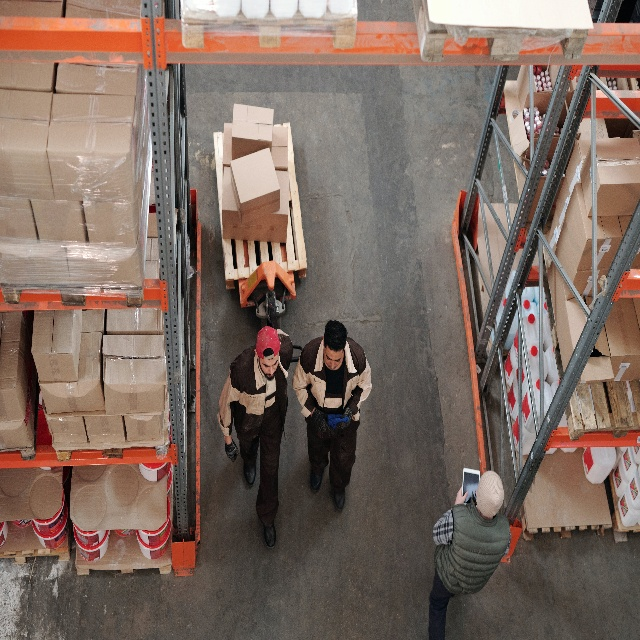Guantes: (311, 407, 333, 438), (335, 405, 353, 433), (223, 438, 239, 463)
Sin_guantes: (455, 486, 468, 505)
